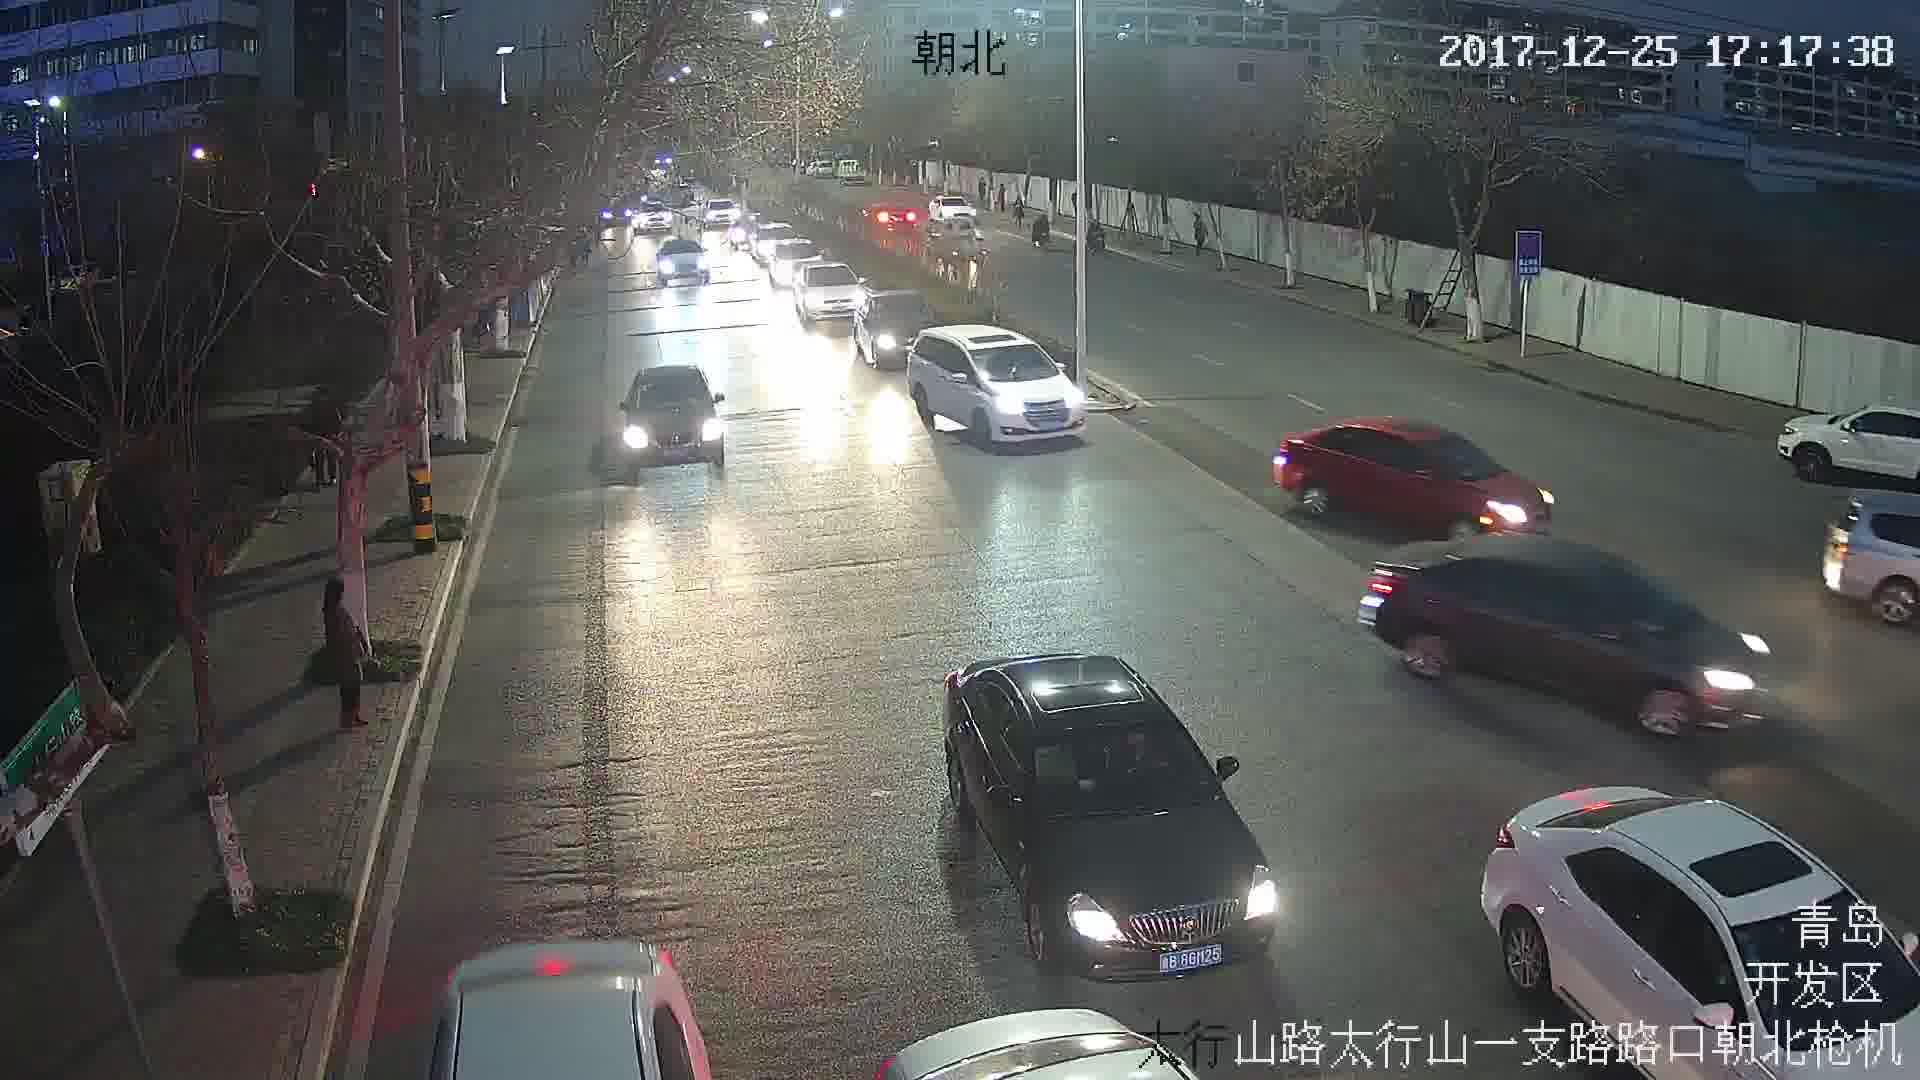car: (938, 669, 1280, 975), (1364, 546, 1785, 735), (1268, 412, 1549, 544), (912, 324, 1084, 455), (623, 364, 728, 469), (796, 267, 871, 324), (655, 234, 710, 285)
person: (320, 578, 382, 725), (1185, 216, 1207, 252)
